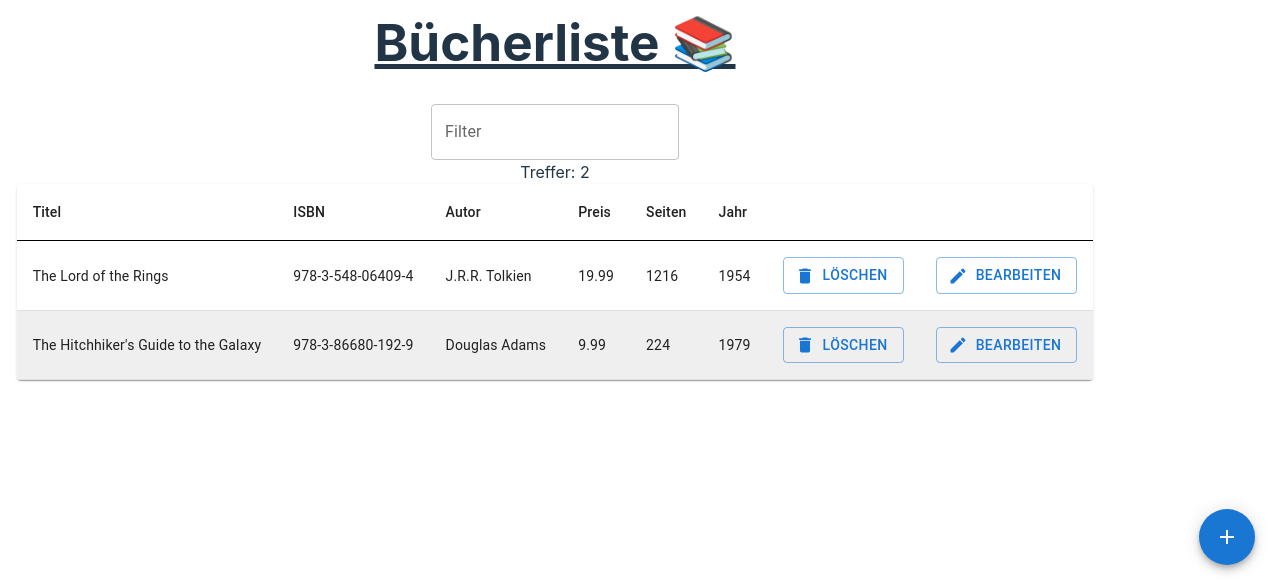
Test: List › should delete an element
Expected: the number of cells with test id "title" is 2, top-left (17, 241), bottom-right (277, 310); top-left (17, 310), bottom-right (277, 380)
Click the button with test id "delete-btn" at (843, 276), box top-left (783, 258), bottom-right (904, 294)
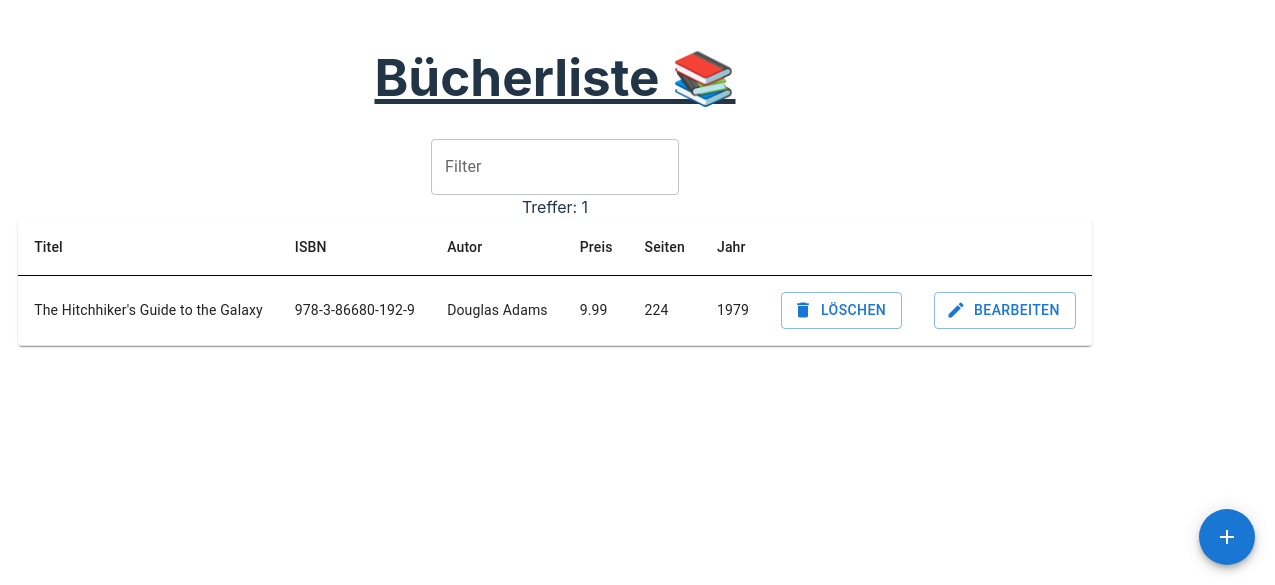
Expected: the number of cells with test id "title" is 1, top-left (18, 276), bottom-right (279, 345)
